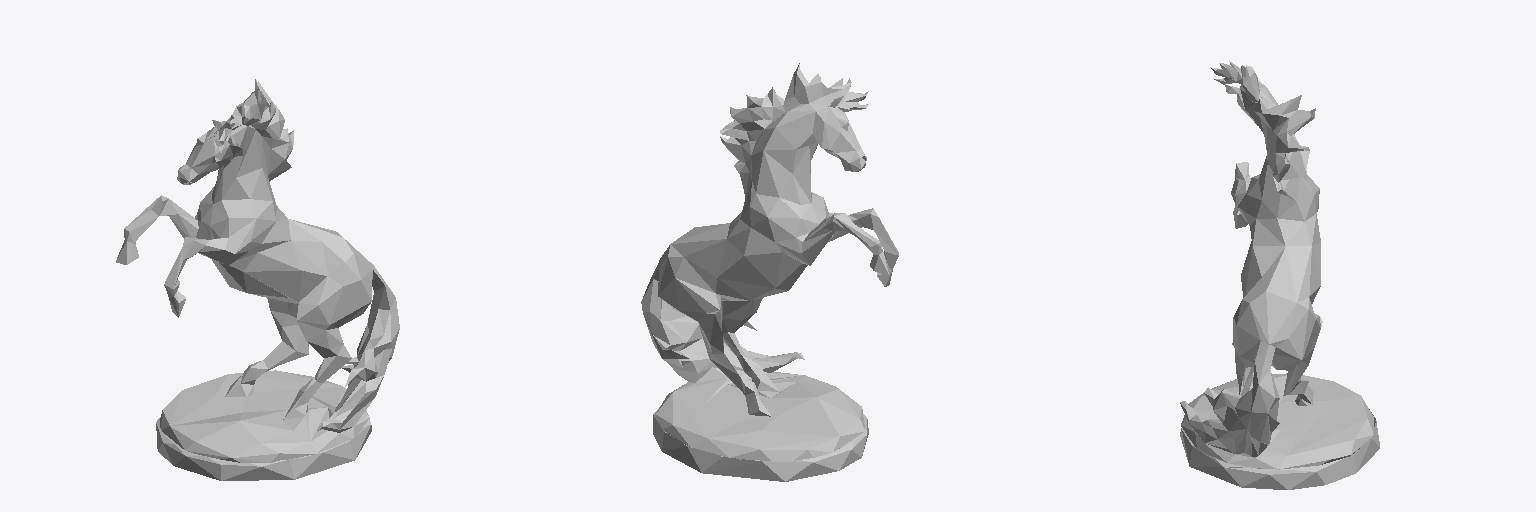
File: full_horse_statue_01_1k_LOD_3.obj
3 renders of one model, left to right at view 1: azimuth 30°, elevation 25°; view 2: azimuth 150°, elevation 25°; view 3: azimuth 270°, elevation 25°, orthographic.
Parts seen in each view (by area): view 1: "horse_statue_01_1k_LOD_3"; view 2: "horse_statue_01_1k_LOD_3"; view 3: "horse_statue_01_1k_LOD_3".
Boxes of the visible parts, x1=… form: "horse_statue_01_1k_LOD_3": x1=116, y1=79, x2=399, y2=480; "horse_statue_01_1k_LOD_3": x1=641, y1=63, x2=898, y2=481; "horse_statue_01_1k_LOD_3": x1=1180, y1=61, x2=1379, y2=489.
Size of the model in its own units: 0.1638 by 0.2202 by 0.1087.